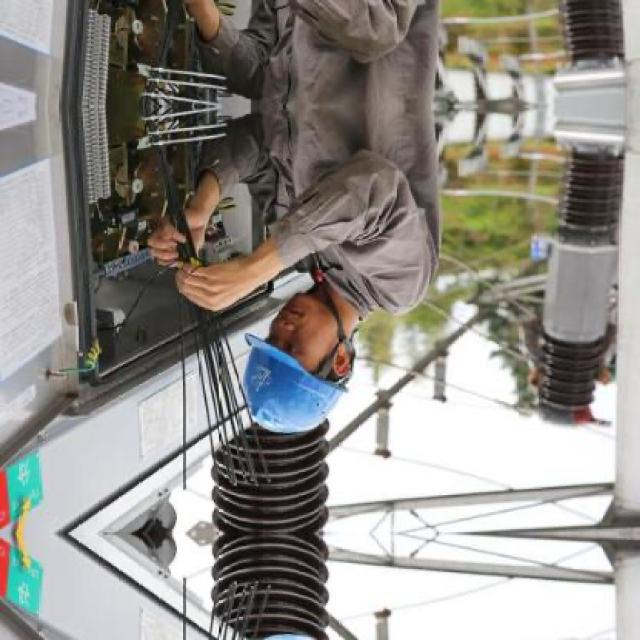con casco: (236, 244, 443, 462)
